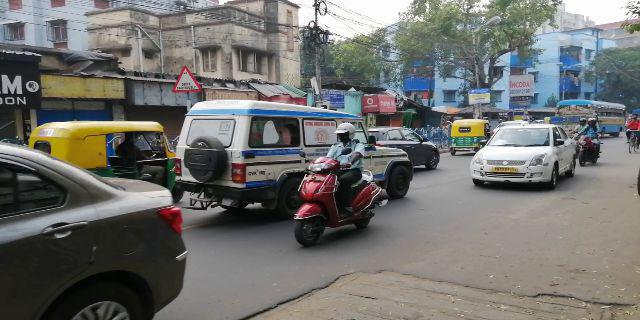Autorickshaw: (26, 117, 185, 202), (449, 114, 489, 156)
Car: (1, 144, 190, 317), (184, 97, 413, 213), (473, 128, 578, 184), (372, 124, 444, 170)
Motorbike: (298, 163, 378, 240)
